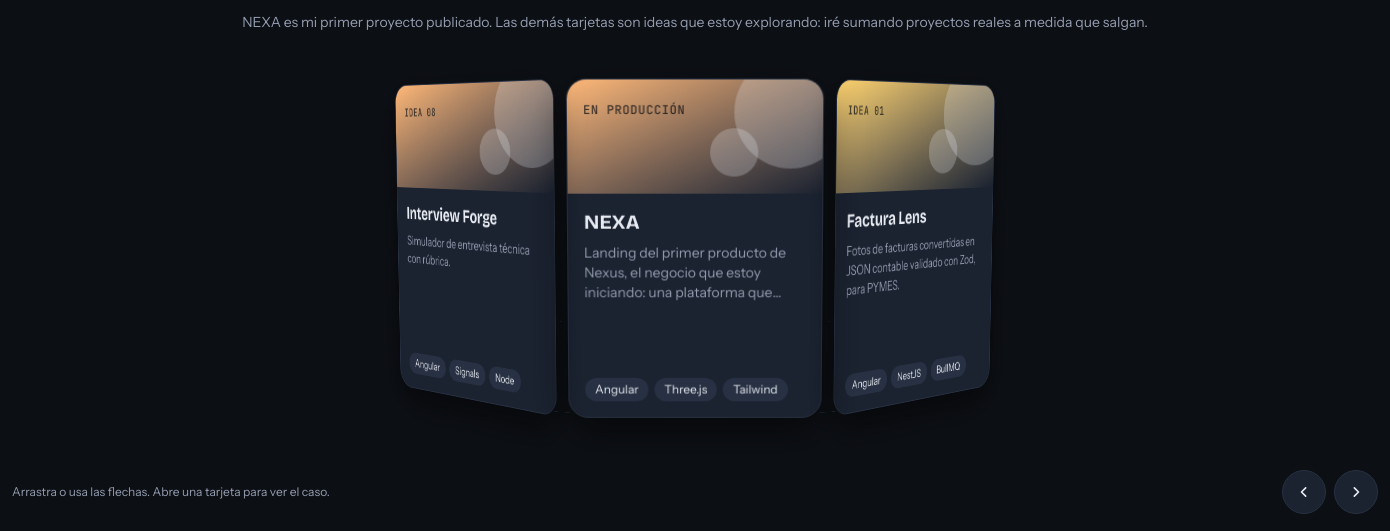
Test: ProjectsApp › opens the case of a project from its card
The image size is (1390, 531).
Step 1. Click the button "Factura Lens" → point(914, 248), box [833,79,995,417]
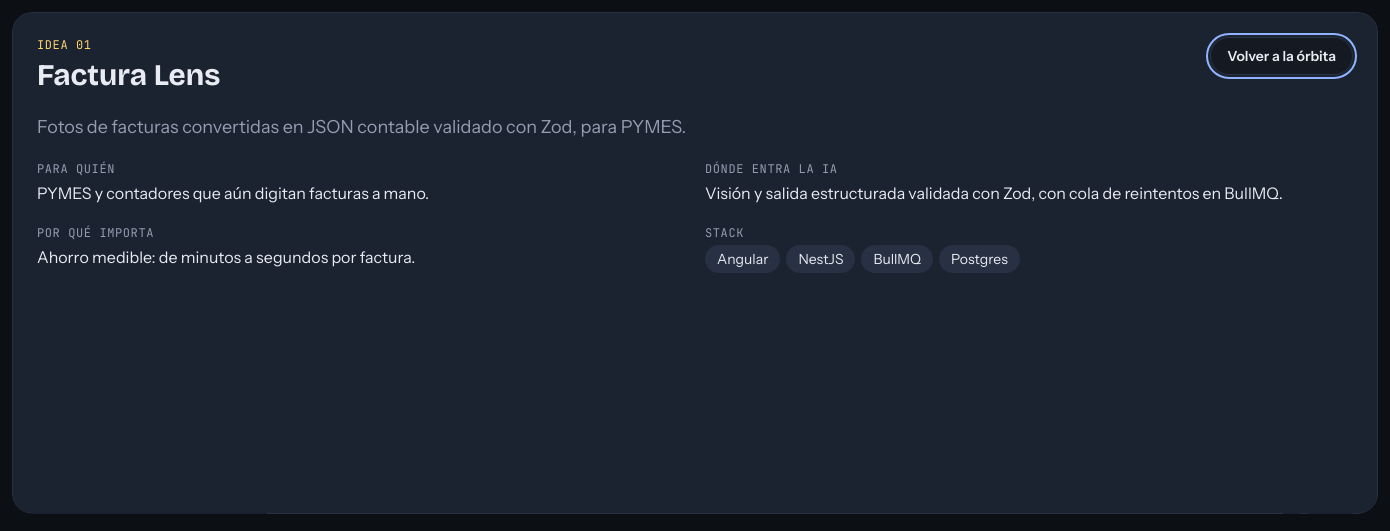
Expected: the element "Factura Lens" shows "PYMES y contadores que aún digitan facturas a mano.", [37,183,429,203]
Expected: the element "Factura Lens" shows "BullMQ", [873,250,921,268]
